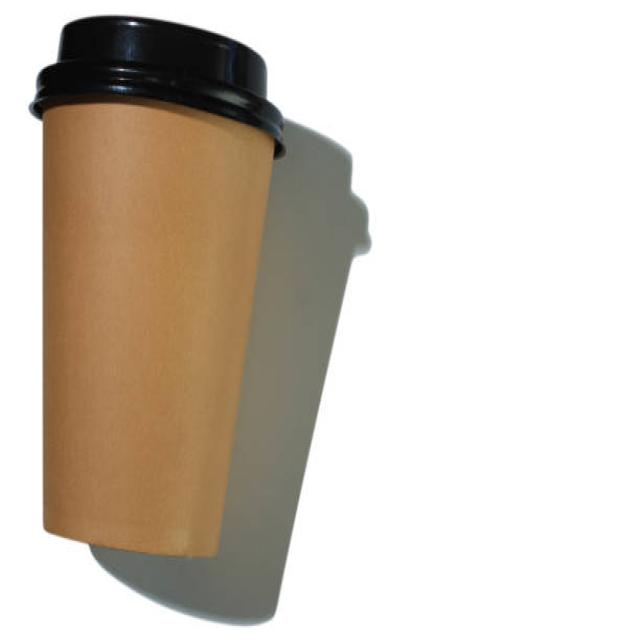cup: (27, 16, 290, 566)
